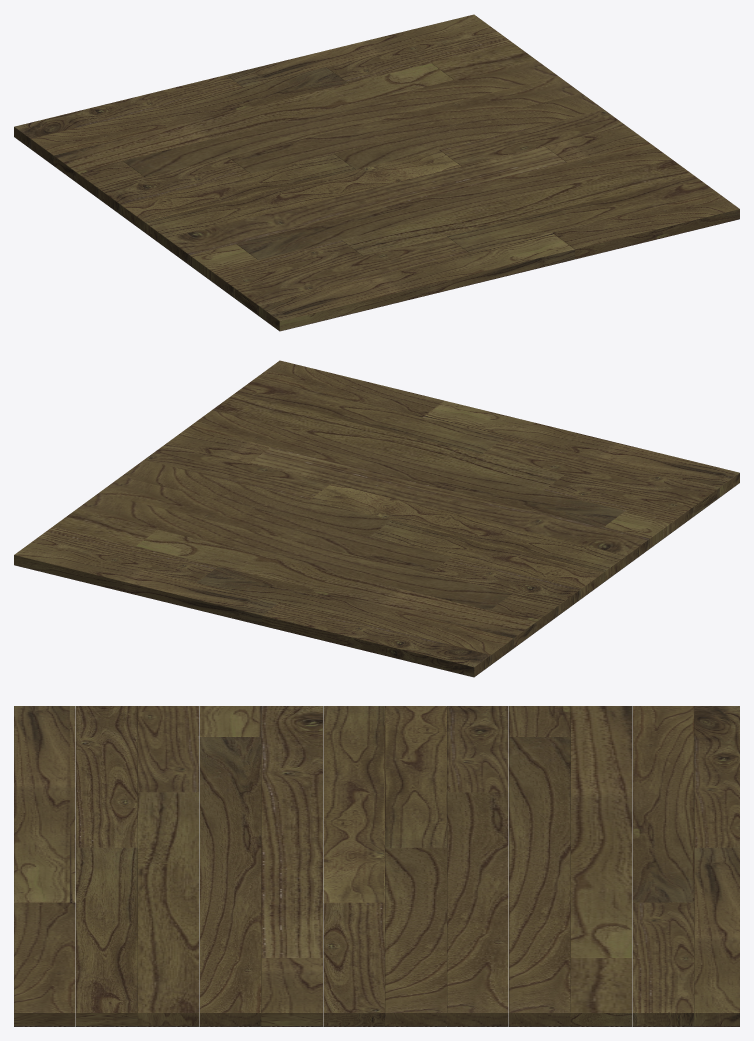
Rendered from glb-30.glb.
3 views of the same model, one above another, from view 1: azimuth 30°, elevation 25°; view 2: azimuth 150°, elevation 25°; view 3: azimuth 270°, elevation 25° (orthographic). The views are drawn at different scales.
Visible parts, largest first — view 1: Node; view 2: Node; view 3: Node.
Part boxes in pixels (left/top/right/bottom): Node: left=14, top=14, right=739, bottom=331; Node: left=14, top=360, right=739, bottom=677; Node: left=14, top=706, right=739, bottom=1026.
Bounding box in the file's own units: 5 × 0.11 × 5.
5 materials, 5 textured.
